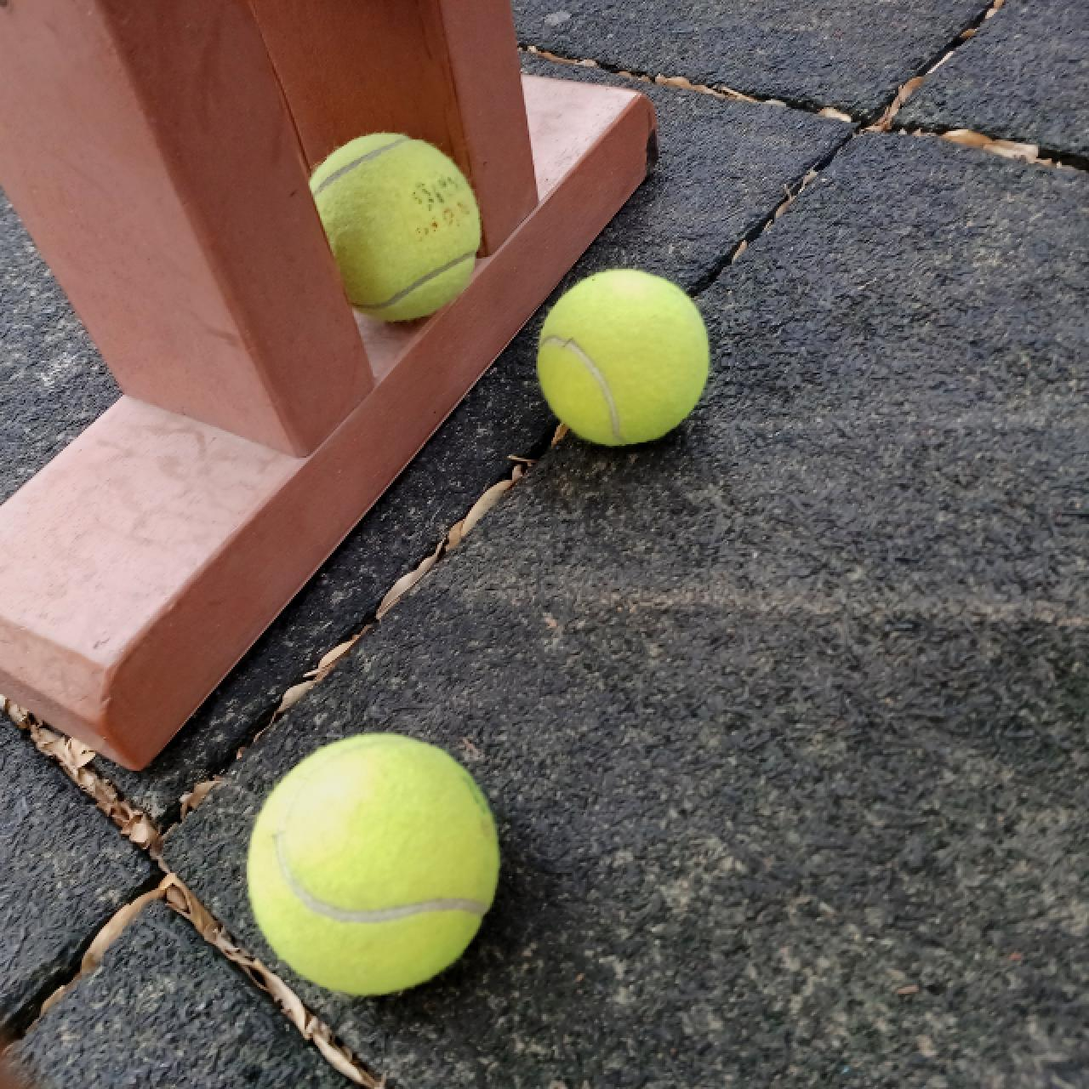tennis-ball: (243, 732, 505, 996), (297, 130, 484, 325), (537, 266, 710, 444)
